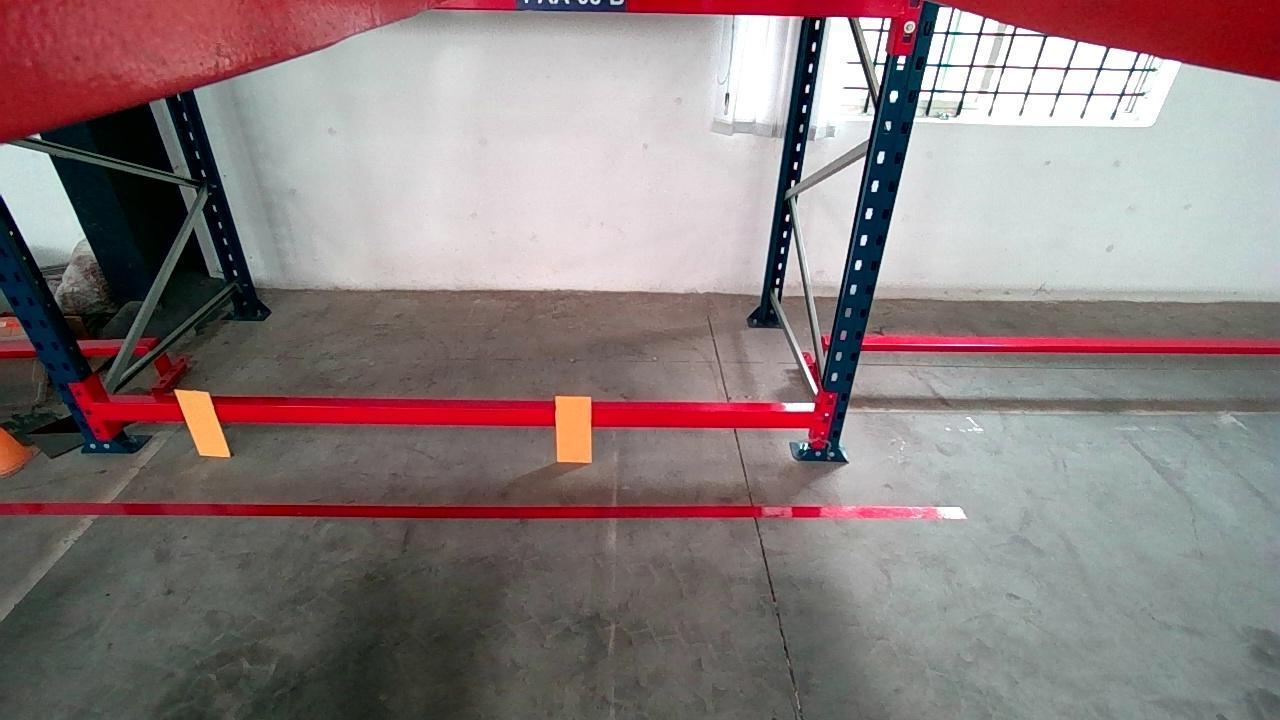h_rack: (88, 405, 818, 428)
orange_strip: (173, 390, 233, 456), (555, 398, 590, 463)
red_line: (0, 499, 964, 518)
